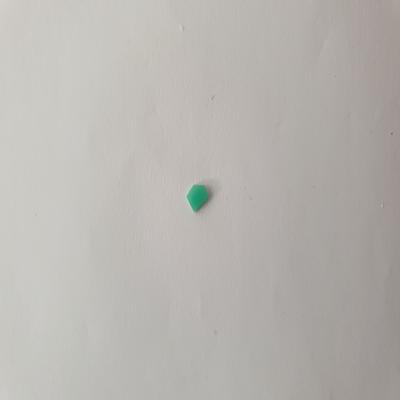plastic: (183, 180, 220, 213)
